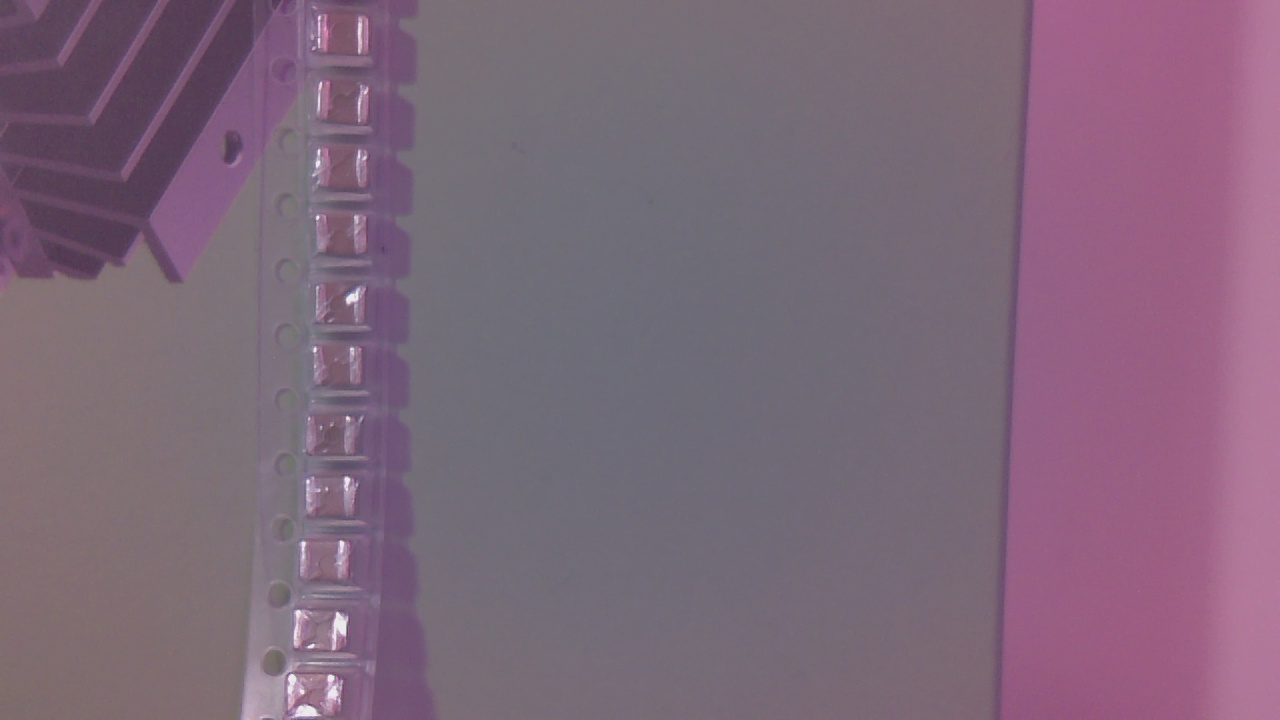Condensator: (310, 479, 366, 526), (309, 418, 366, 464), (291, 675, 348, 719), (323, 149, 375, 196), (321, 286, 372, 333), (299, 612, 352, 657), (315, 349, 373, 390), (323, 86, 377, 130), (320, 19, 375, 60), (321, 217, 373, 260), (305, 544, 355, 587)
